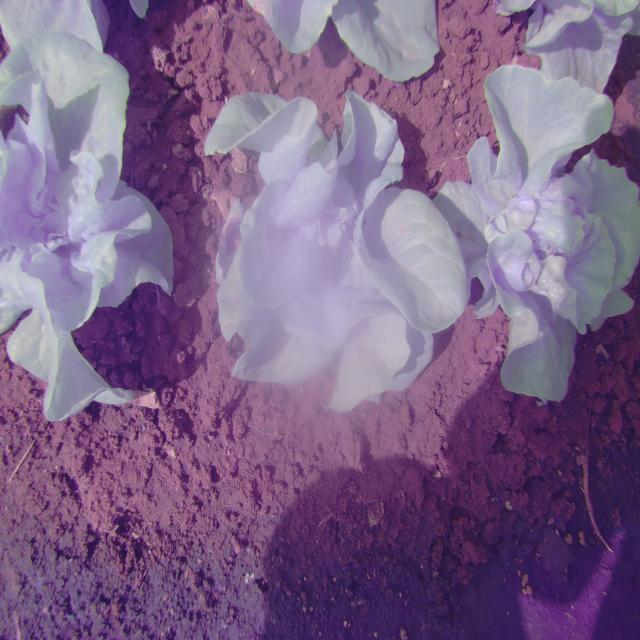vege: (205, 91, 471, 404)
